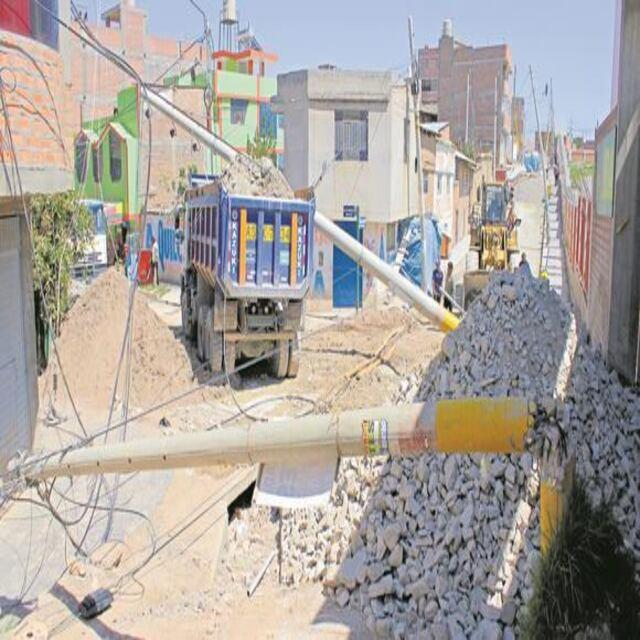Inclined Pole: (6, 394, 589, 556), (135, 79, 463, 334)
